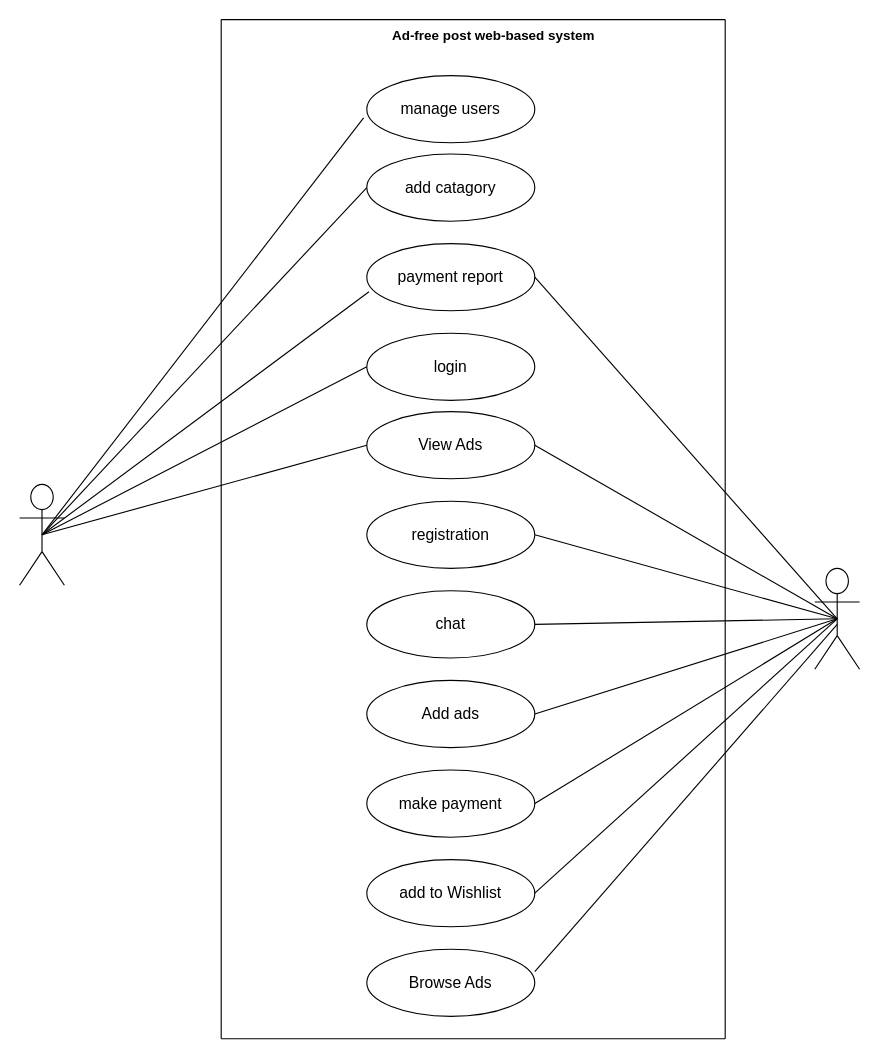
Image size: 879x1060. Some labels were removed from this diagram. Each missing label, with the centre of its shape:
"Admin" goes at (41,534).
"User" goes at (837,618).
